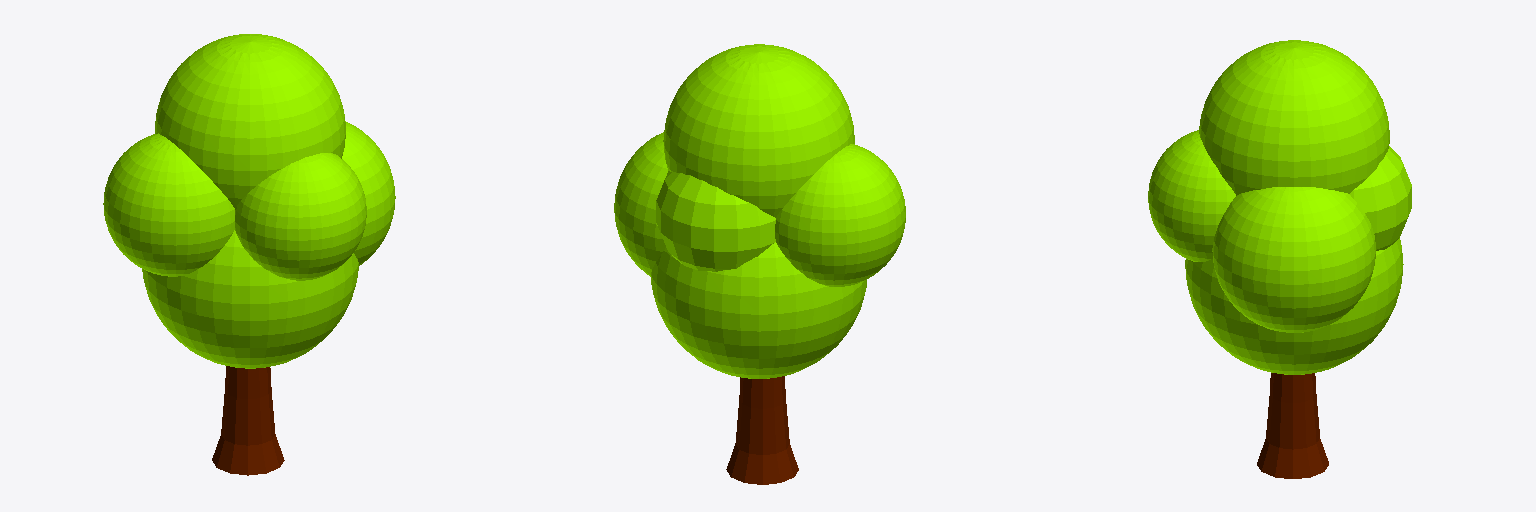
Rendered from oak_tree.obj.
3 views of the same model, side by side, from view 1: azimuth 30°, elevation 25°; view 2: azimuth 150°, elevation 25°; view 3: azimuth 270°, elevation 25° (orthographic).
Visible parts, largest first — view 1: Cartoon_tree_3; view 2: Cartoon_tree_3; view 3: Cartoon_tree_3.
Boxes of the visible parts, box(x1,y1,x2,y2) form: Cartoon_tree_3: box(103, 34, 395, 475); Cartoon_tree_3: box(614, 44, 905, 484); Cartoon_tree_3: box(1148, 40, 1411, 478).
Size of the model in its own units: 0.1372 by 0.2015 by 0.1156.